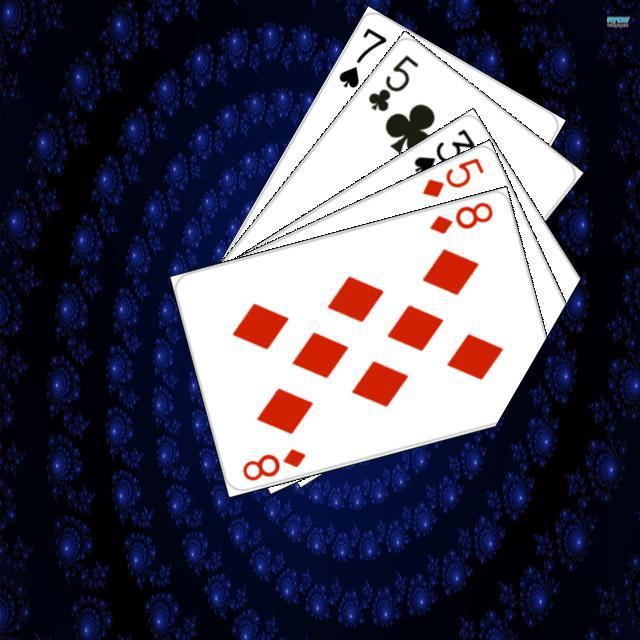3s: (408, 124, 477, 179)
5c: (363, 49, 420, 114)
5d: (417, 153, 486, 200)
7s: (333, 23, 389, 90)
8d: (237, 443, 307, 483), (424, 197, 495, 236)
